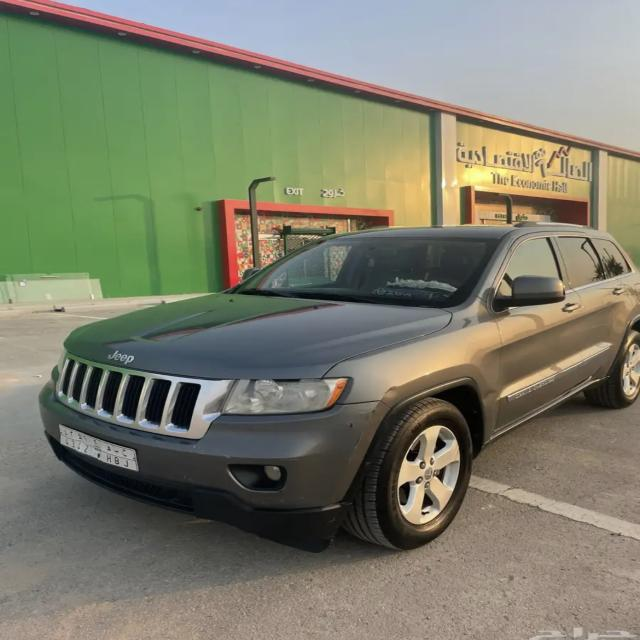license_plate: (58, 423, 136, 473)
